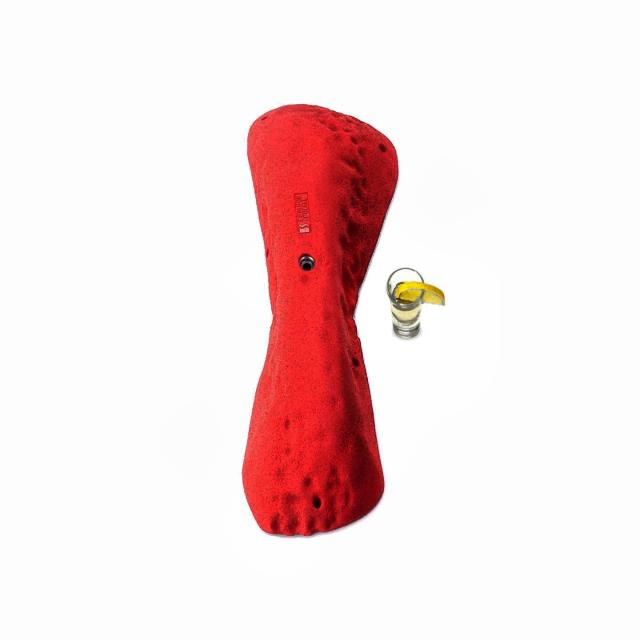Hold: (239, 95, 397, 534)
